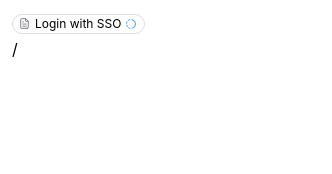
Test: RefChip › shows the live status icon and opens the document
Expected: the text "Login with SSO" is shown, [35,14,121,32]
Expected: the icon named "in progress" is shown, [125,18,137,30]
Click the link "Login with SSO" at (79,24), box [12,14,145,34]
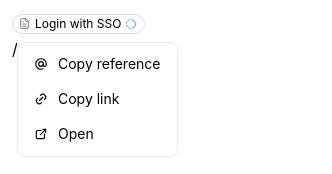
Expected: the text with test id "where" reads "/specs/login-sso", [12,39,139,59]
